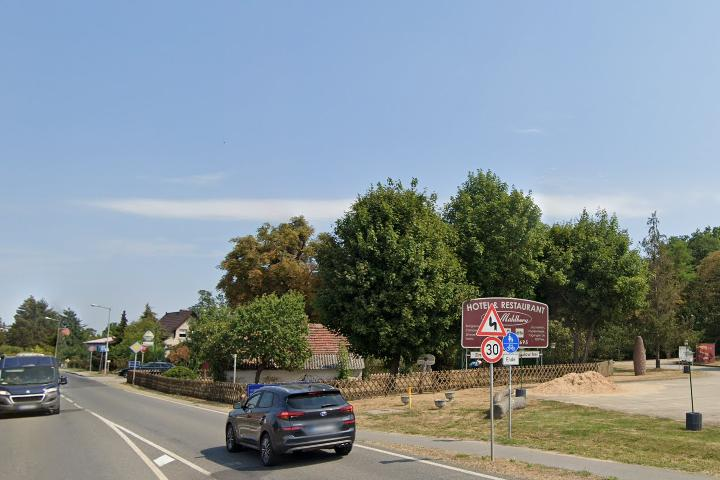traffic_sign: (476, 303, 506, 336), (480, 336, 504, 363), (129, 341, 144, 353)
vehicle: (219, 381, 359, 467), (1, 350, 70, 420)
